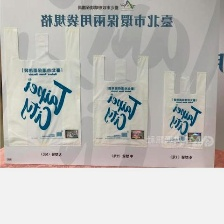plastic_bag: (1, 24, 81, 149), (91, 52, 150, 149), (158, 68, 210, 150)
